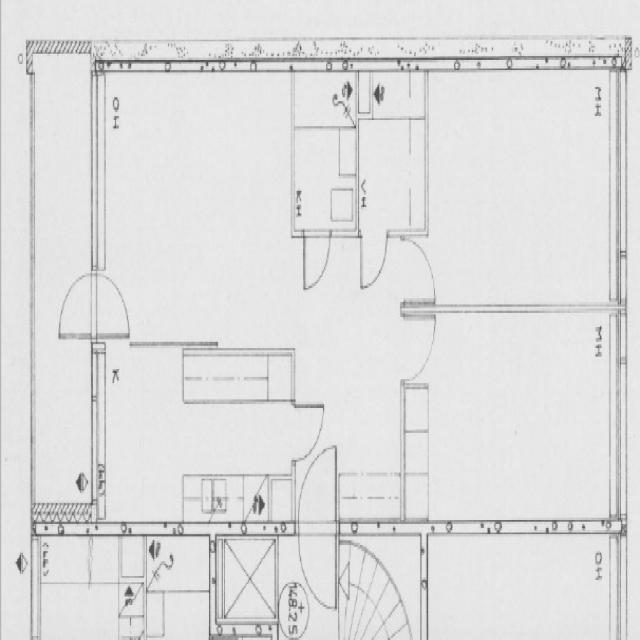door: (296, 441, 340, 592), (356, 229, 434, 296), (400, 231, 440, 309), (400, 306, 438, 384), (93, 267, 133, 340), (56, 266, 94, 339), (291, 396, 328, 463), (356, 228, 389, 294), (300, 226, 332, 294), (149, 561, 167, 594)
zone: (98, 60, 298, 350), (411, 57, 619, 310), (407, 305, 622, 528), (95, 347, 296, 534), (358, 63, 426, 238), (292, 64, 358, 232), (338, 532, 426, 640), (218, 532, 280, 628), (146, 534, 212, 596), (156, 589, 213, 638)
